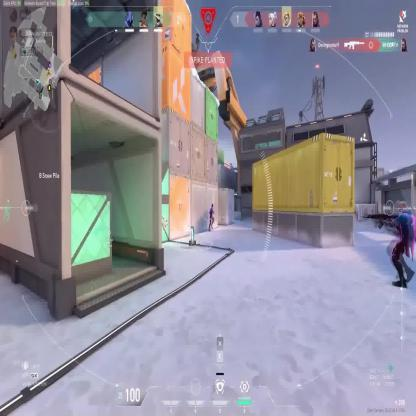enemy: (208, 202, 216, 233)
enemy_head: (211, 203, 214, 209)
